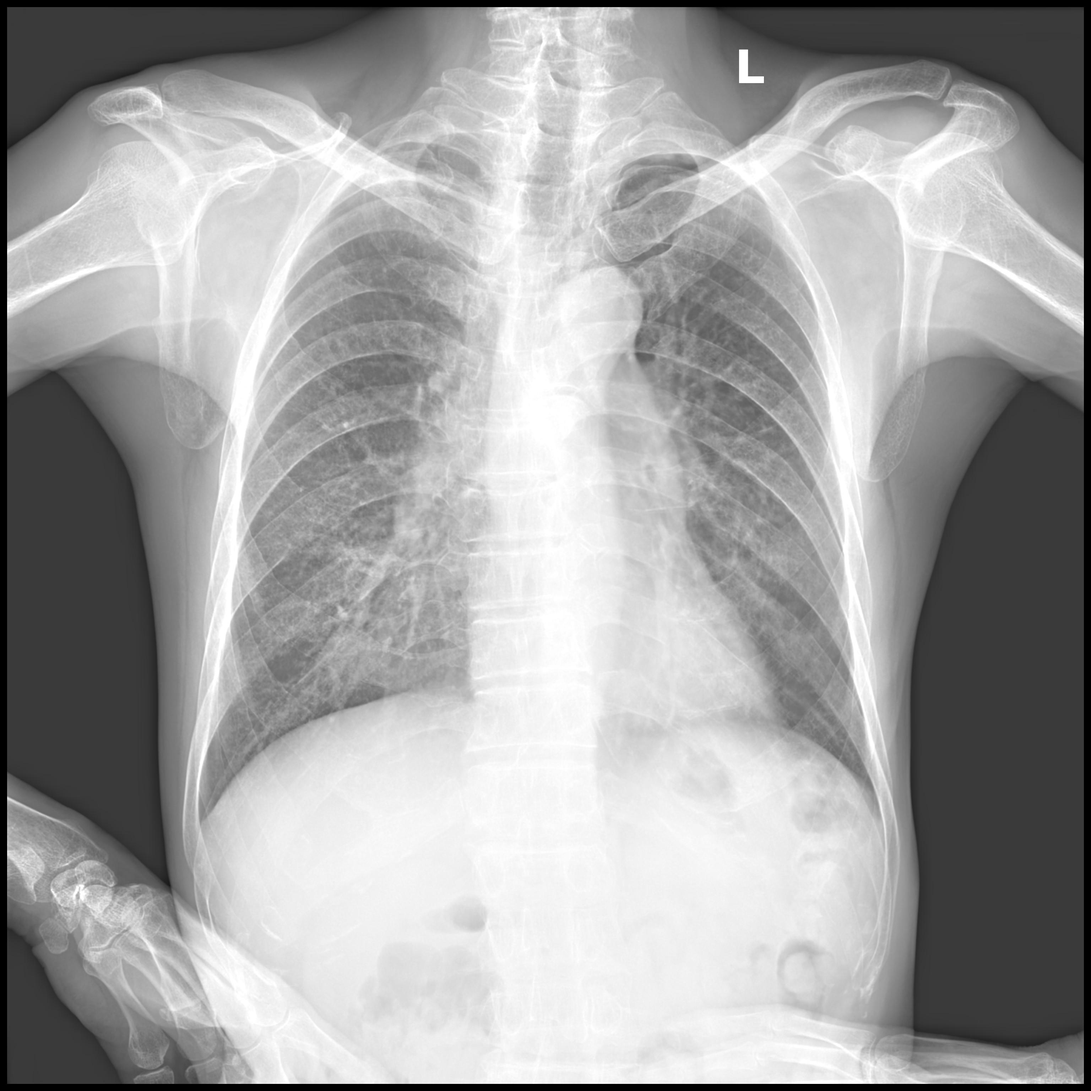Pleural thickening: (614, 144, 708, 165)
Pulmonary fibrosis: (244, 385, 447, 731), (672, 374, 829, 678)
